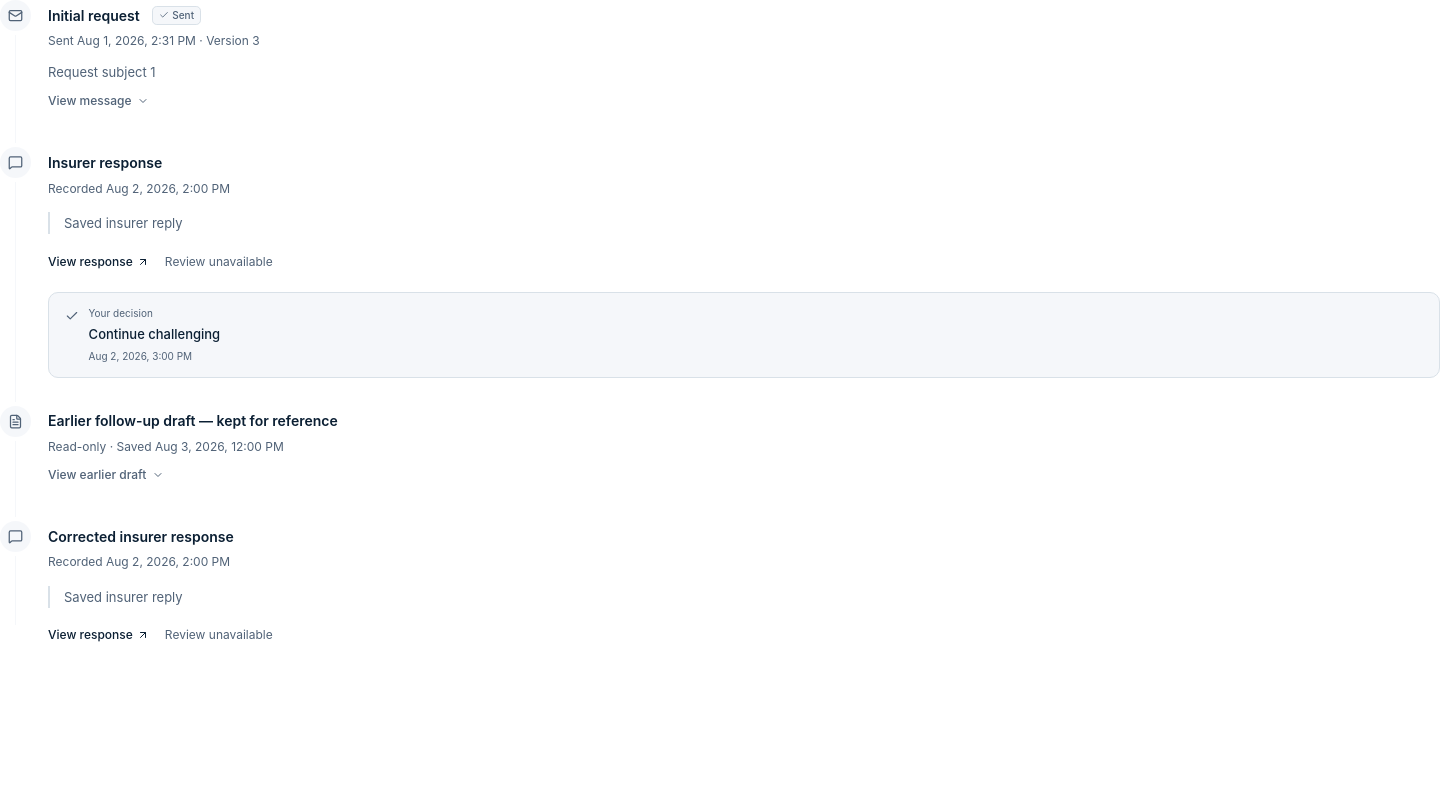
Scenario: immutable negotiation history › labels browser work from a different saved baseline as uncertain
Click the 3rd heading: (193, 447) [48,412,338,482]
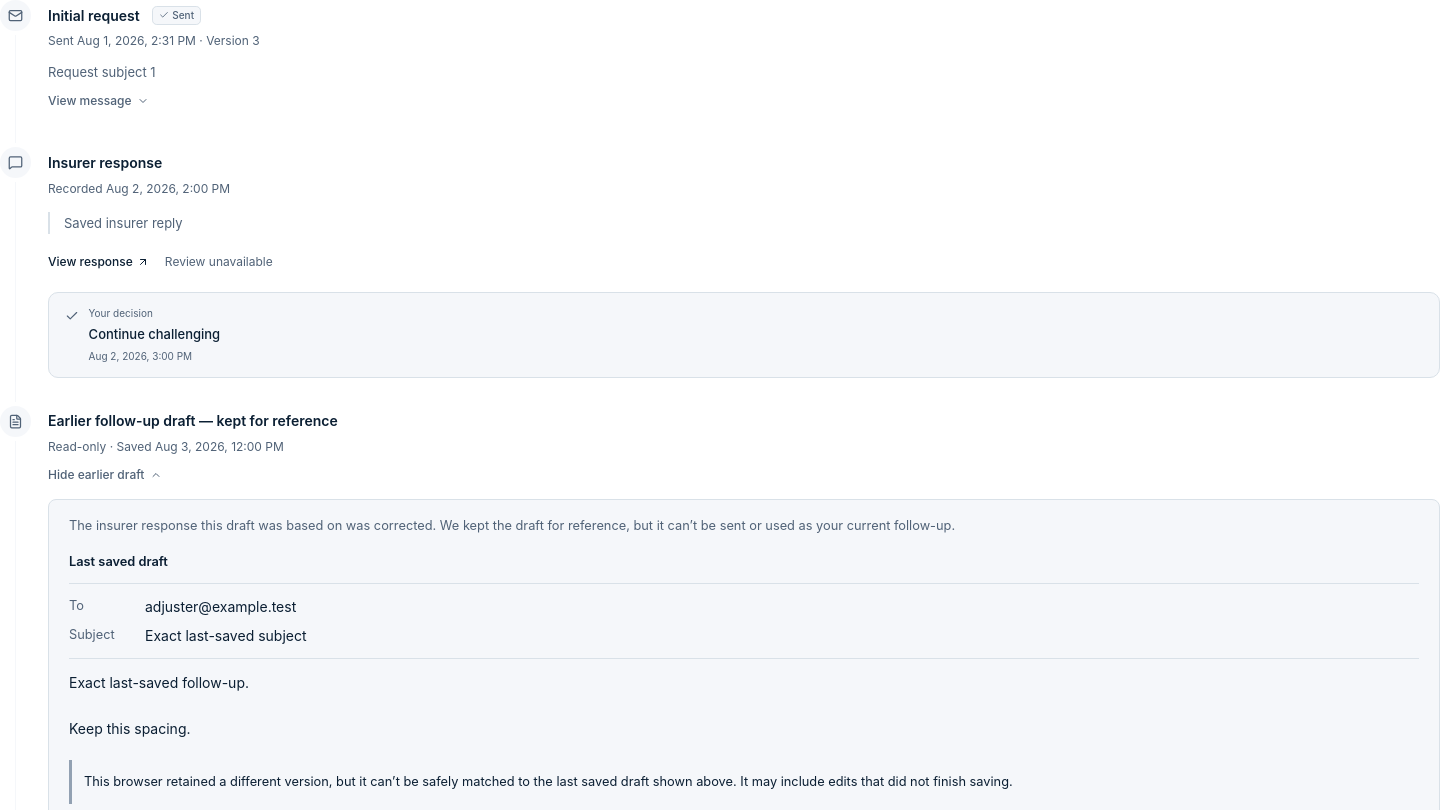
Result: the text "can’t be safely matched to the last saved draft" is shown at [84,774,1013,790]
Result: the number of elements with class "case-history-draft-version" is 2
